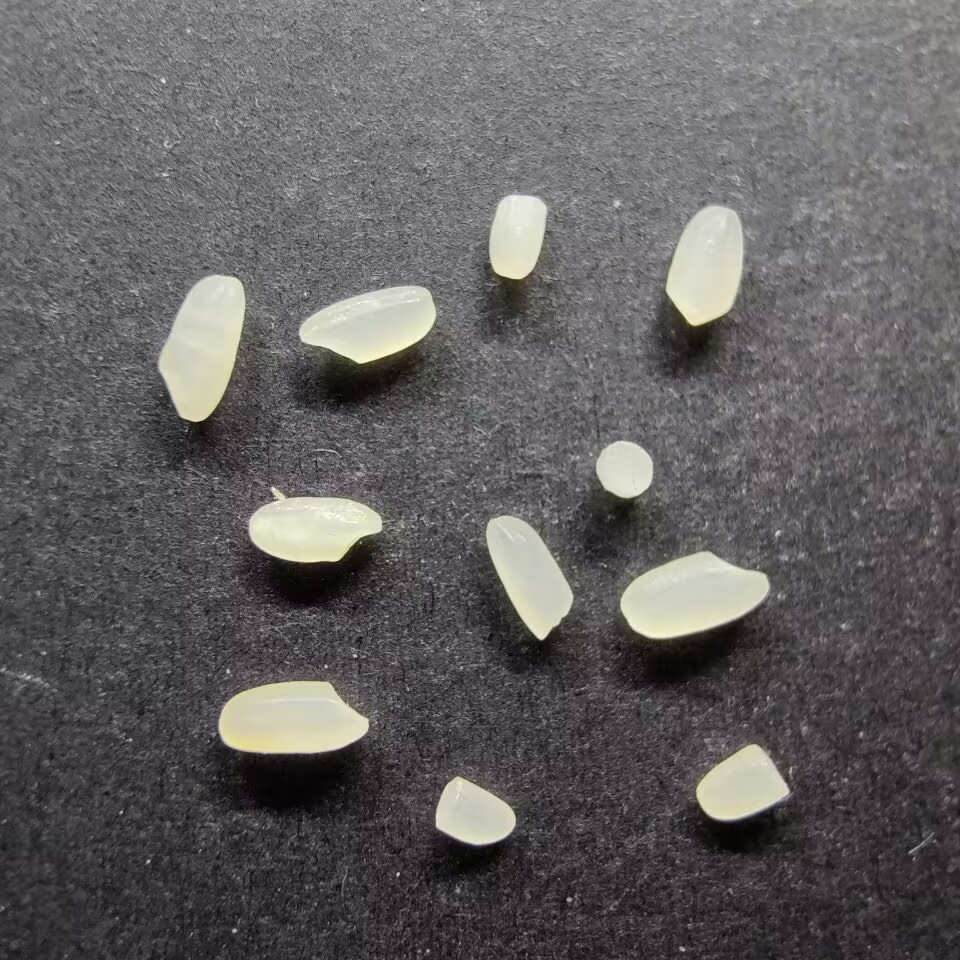broken: (694, 741, 792, 824), (432, 774, 517, 847), (485, 192, 548, 281), (592, 439, 657, 500)
rice: (154, 273, 247, 424), (618, 548, 770, 640), (484, 514, 577, 643), (217, 679, 371, 755), (295, 282, 435, 365), (663, 203, 745, 328), (246, 495, 384, 564)
